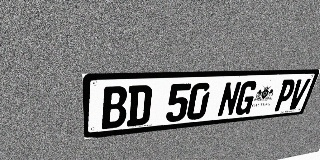0: (186, 82, 212, 121)
5: (165, 83, 192, 123)
B: (102, 86, 128, 129)
D: (126, 85, 153, 127)
G: (233, 81, 259, 116)
N: (216, 81, 242, 117)
P: (272, 79, 297, 112)
V: (286, 79, 311, 110)
